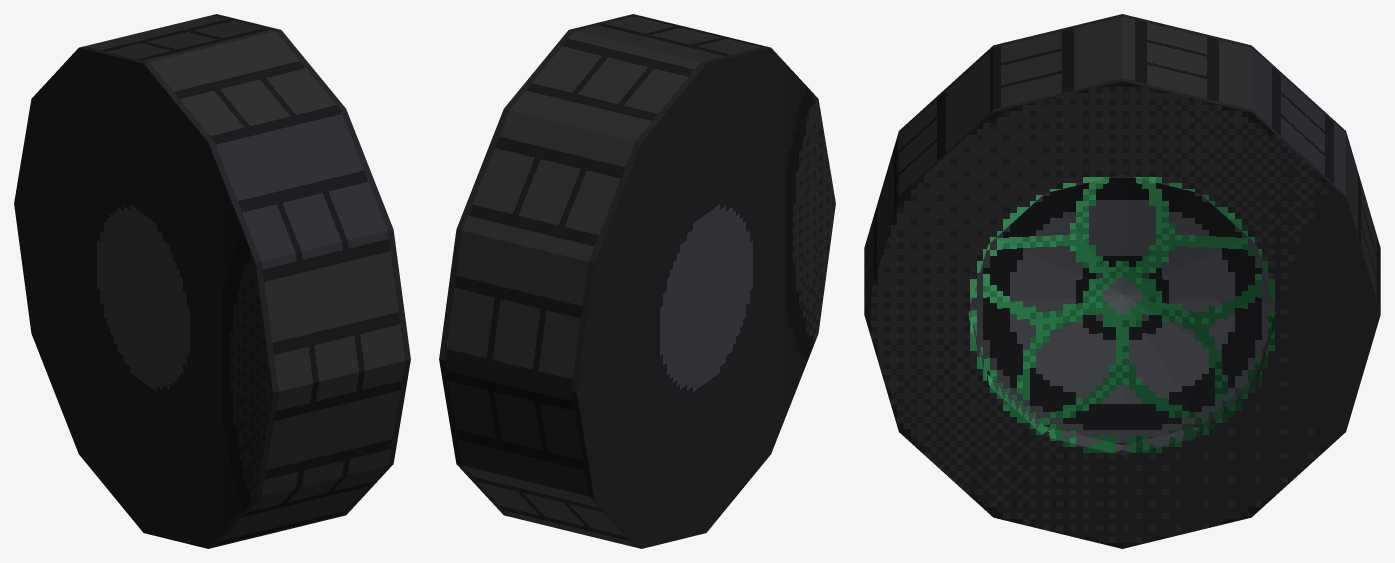
File: wheel_ysp.glb
3 views of the same model, side by side, from view 1: azimuth 30°, elevation 25°; view 2: azimuth 150°, elevation 25°; view 3: azimuth 270°, elevation 25° (orthographic).
Parts seen in each view (by area): view 1: wheel_ysp; view 2: wheel_ysp; view 3: wheel_ysp.
Boxes of the visible parts, bbox=[...] form: wheel_ysp: bbox=[14, 14, 410, 548]; wheel_ysp: bbox=[439, 14, 835, 548]; wheel_ysp: bbox=[864, 14, 1380, 548].
Size of the model in its own units: 0.195 by 0.6345 by 0.6345.
1 material, 1 textured.
